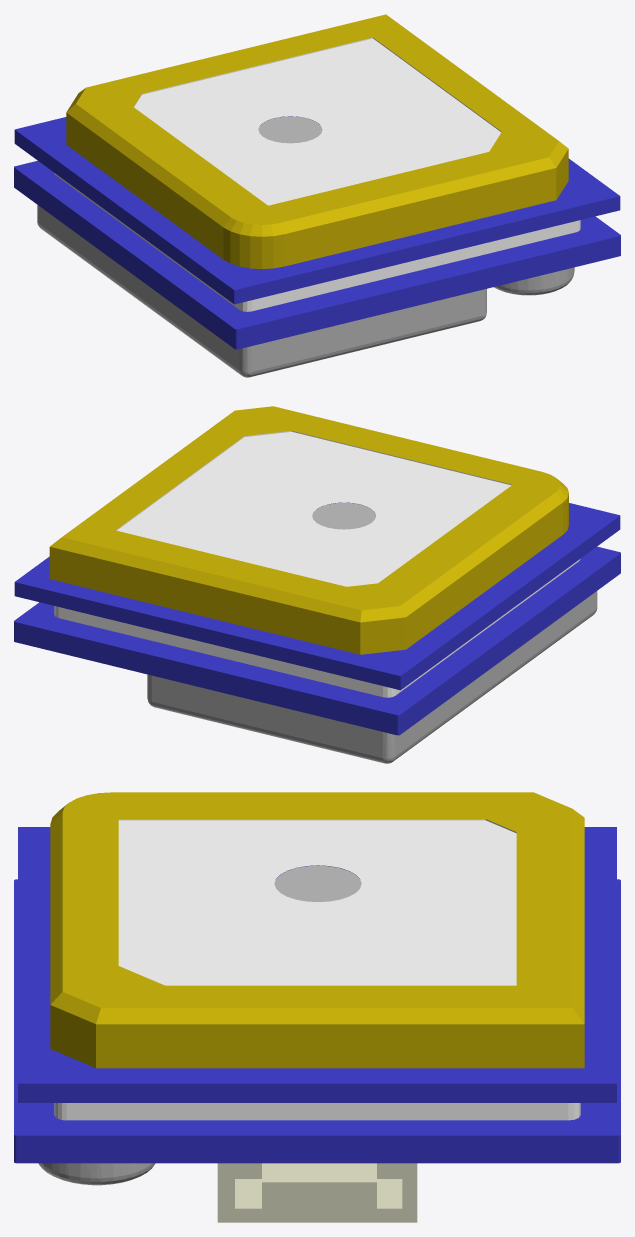
Rendered from model_bn_880-70idh7Jg.glb.
The picture shows the model from 3 angles, top to bottom: view 1: azimuth 30°, elevation 25°; view 2: azimuth 150°, elevation 25°; view 3: azimuth 270°, elevation 25°; orthographic projection. The views are drawn at different scales.
Size of the model in its own units: 20.01 by 7.9 by 20.
